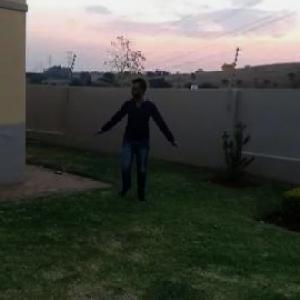land: (86, 81, 188, 220)
